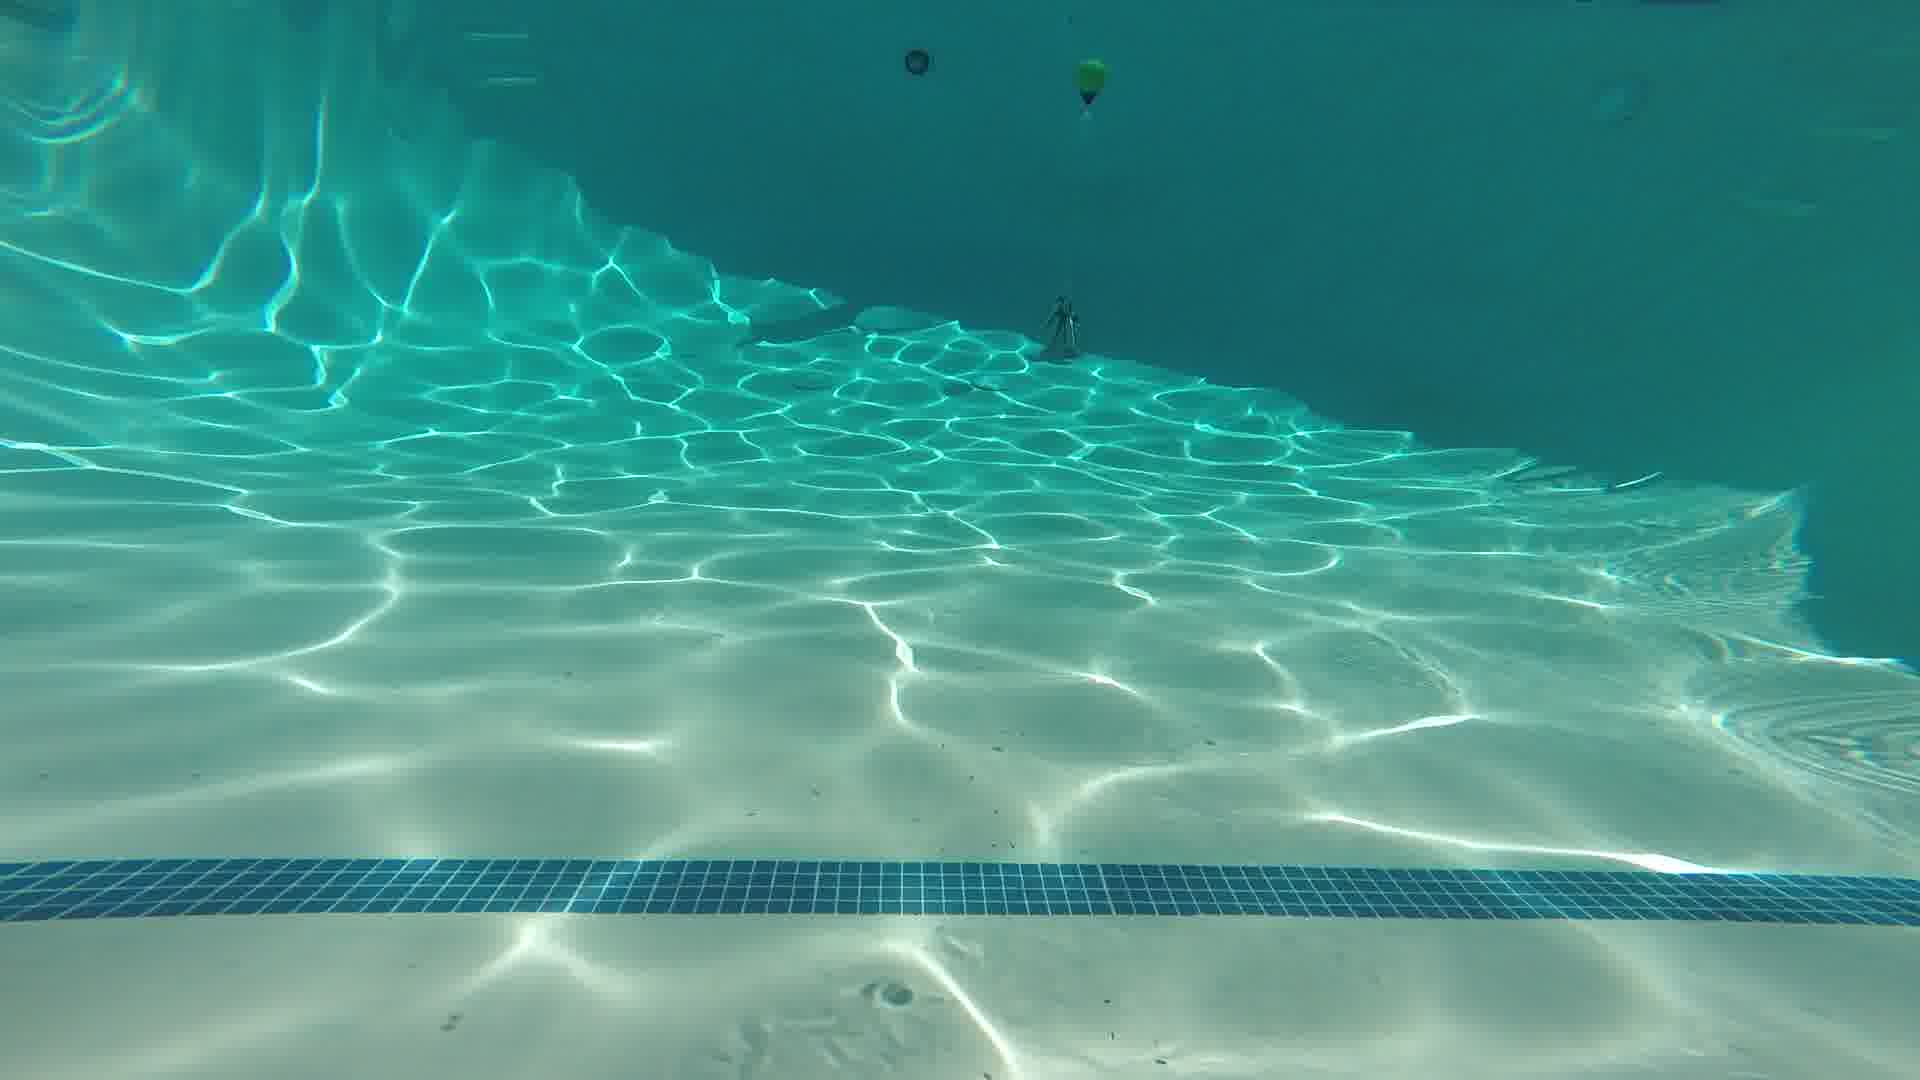yellow_buoy: (1073, 57, 1108, 107)
